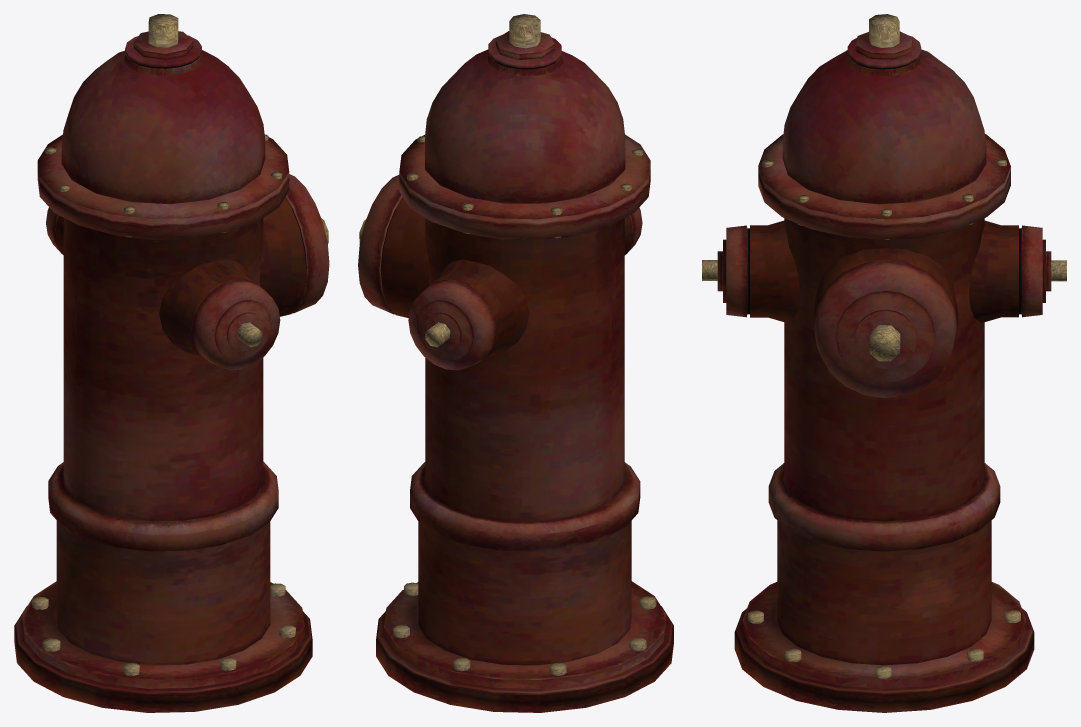
Rendered from hidrante.obj.
The picture shows the model from 3 angles, left to right: view 1: azimuth 30°, elevation 25°; view 2: azimuth 150°, elevation 25°; view 3: azimuth 270°, elevation 25°; orthographic projection.
Parts seen in each view (by area): view 1: hidrante:drant1; view 2: hidrante:drant1; view 3: hidrante:drant1.
Boxes of the visible parts, box(x1,y1,x2,y2) form: hidrante:drant1: box(14, 14, 329, 712); hidrante:drant1: box(358, 14, 673, 712); hidrante:drant1: box(702, 14, 1066, 712).
Size of the model in its own units: 3.48 by 7.28 by 3.83.
Materials: 1 (1 with a texture image).
